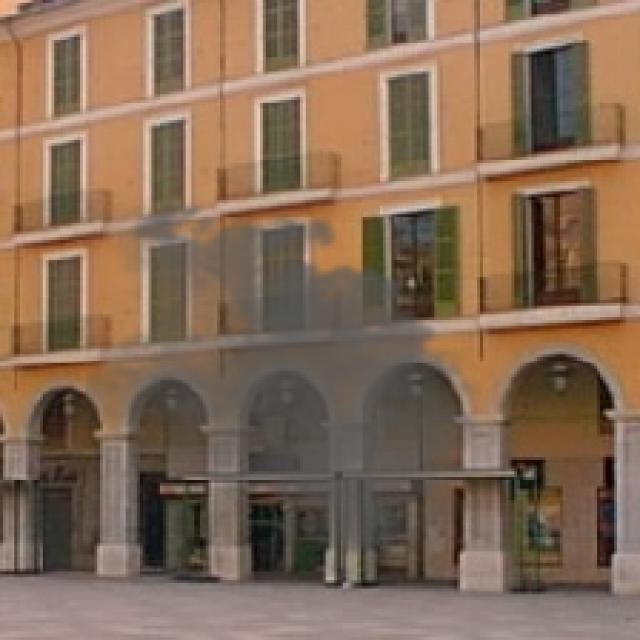smoke: (86, 191, 497, 560)
